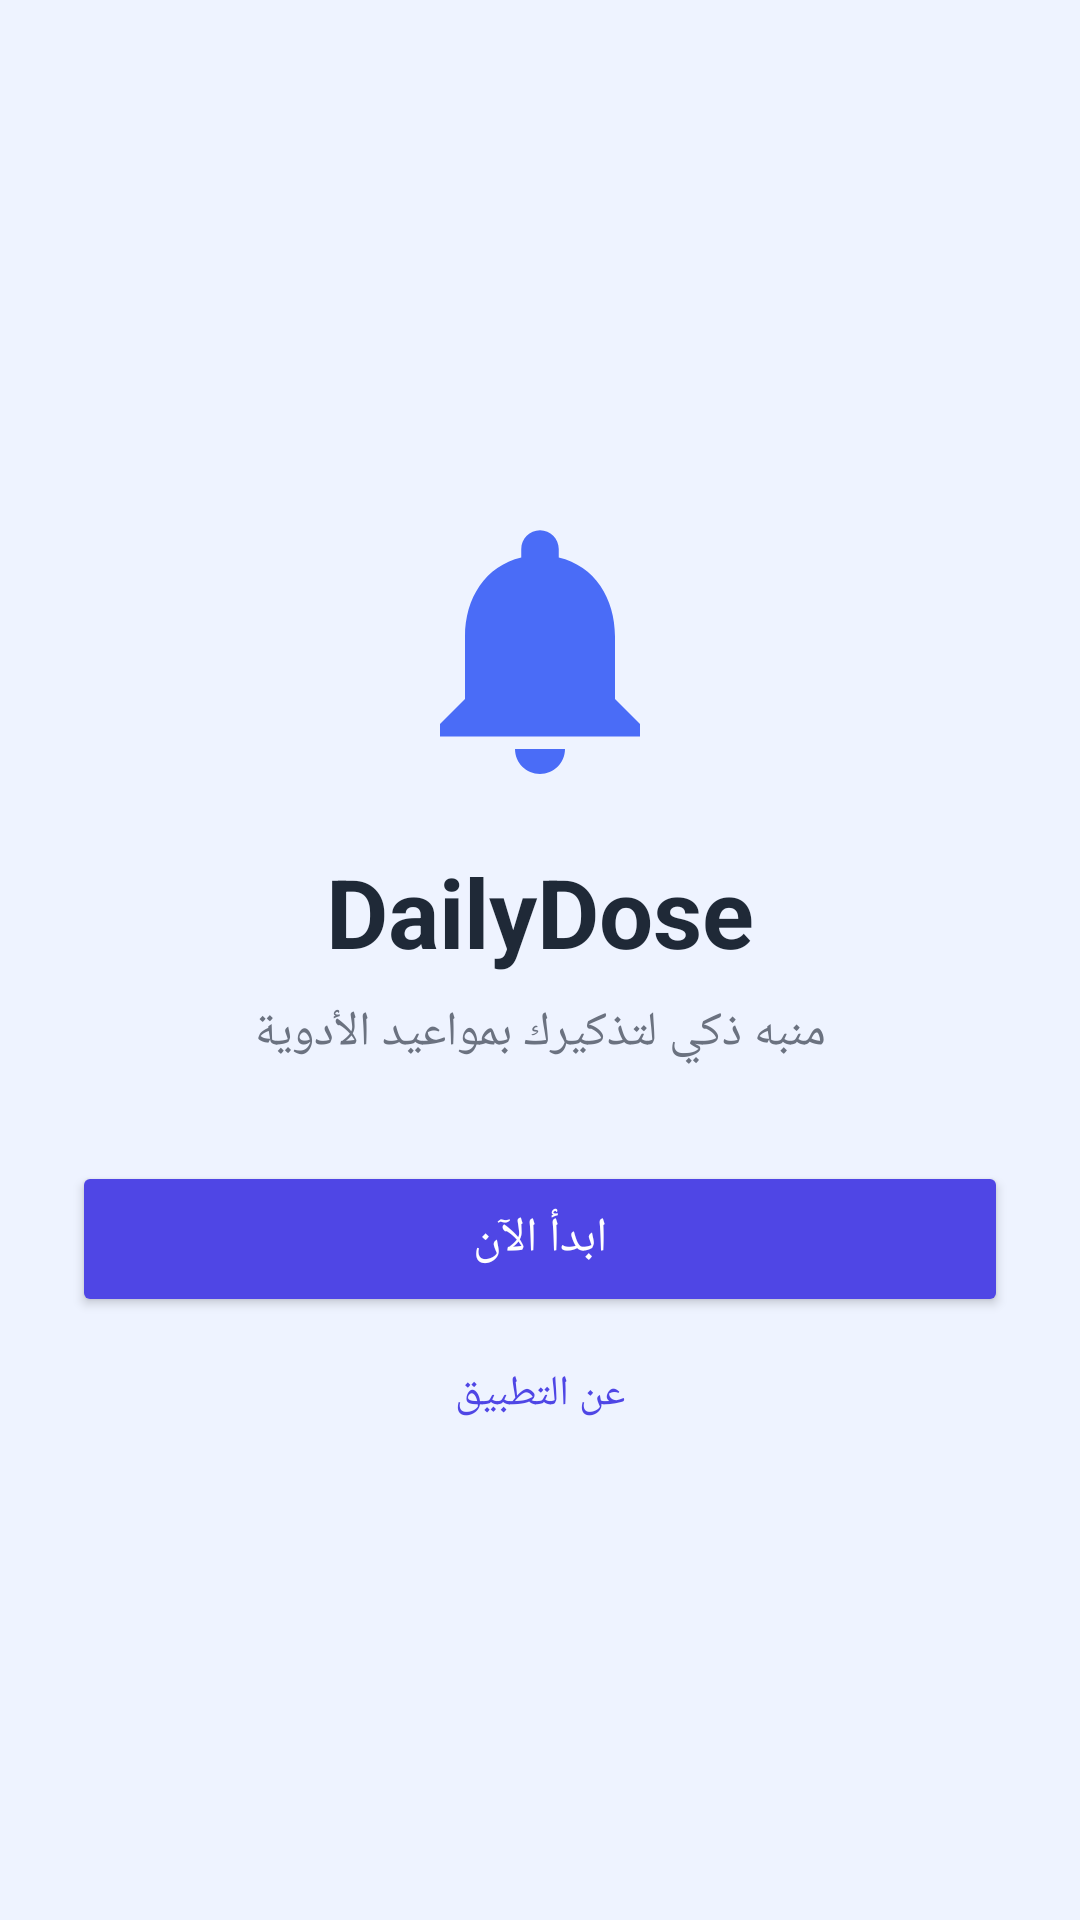

Icons on this 1080*1920 Android screen, each with its box as (x1,y1,x2,y2):
notifications: (440,530,640,774)
